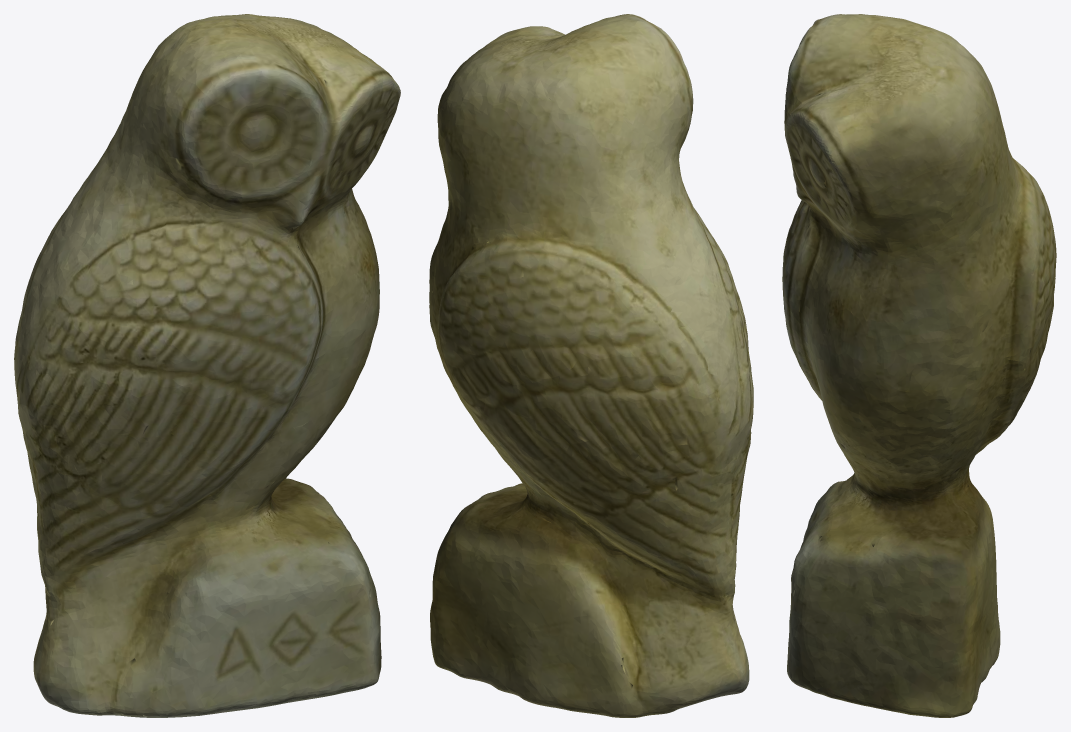
Rendered from owl.glb.
3 renders of one model, left to right at view 1: azimuth 30°, elevation 25°; view 2: azimuth 150°, elevation 25°; view 3: azimuth 270°, elevation 25°, orthographic. The views are drawn at different scales.
Parts seen in each view (by area): view 1: defaultMaterial; view 2: defaultMaterial; view 3: defaultMaterial.
Boxes of the visible parts, x1,y1,x2,y2 form: defaultMaterial: (14,14,400,717); defaultMaterial: (429,14,753,717); defaultMaterial: (782,14,1056,717).
Size of the model in its own units: 1.02 by 1.97 by 0.7651.
1 material, 1 textured.
